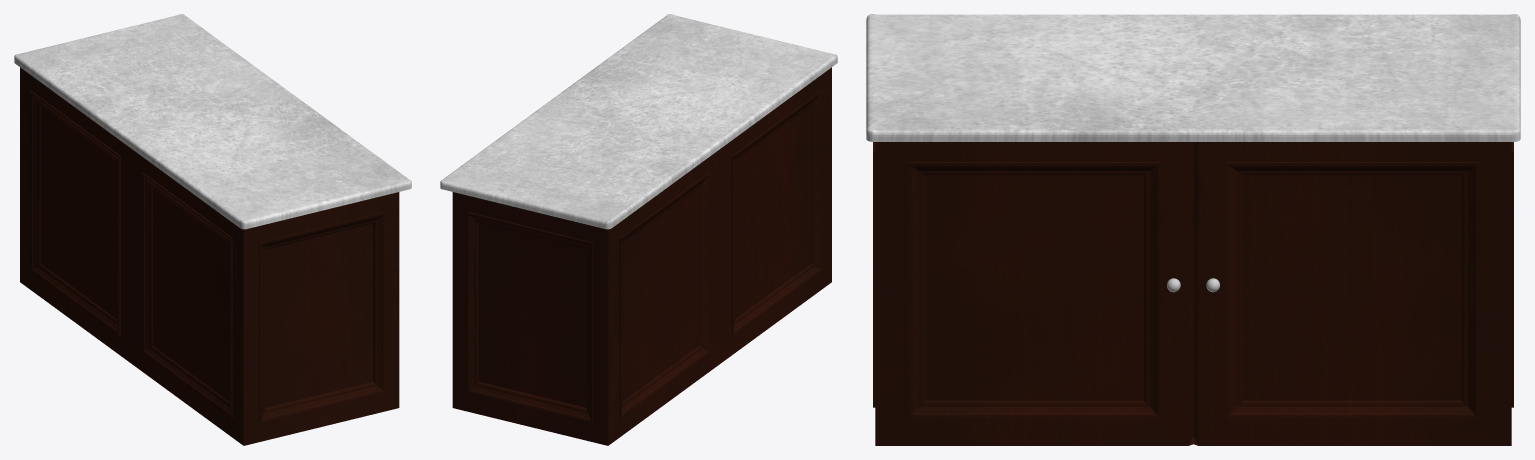
The model's file is cabinet.FBX.
3 views of the same model, side by side, from view 1: azimuth 30°, elevation 25°; view 2: azimuth 150°, elevation 25°; view 3: azimuth 270°, elevation 25° (orthographic). The views are drawn at different scales.
Parts seen in each view (by area): view 1: Box001, cabCount; view 2: Box001, cabCount; view 3: Box001, cabCount.
Boxes of the visible parts, x1,y1,x2,y2 form: Box001: (20,67,399,445); cabCount: (14,14,411,229); Box001: (452,67,831,445); cabCount: (440,14,837,229); Box001: (873,142,1513,445); cabCount: (866,14,1520,141).
Size of the model in its own units: 28.49 by 36.06 by 66.43.
